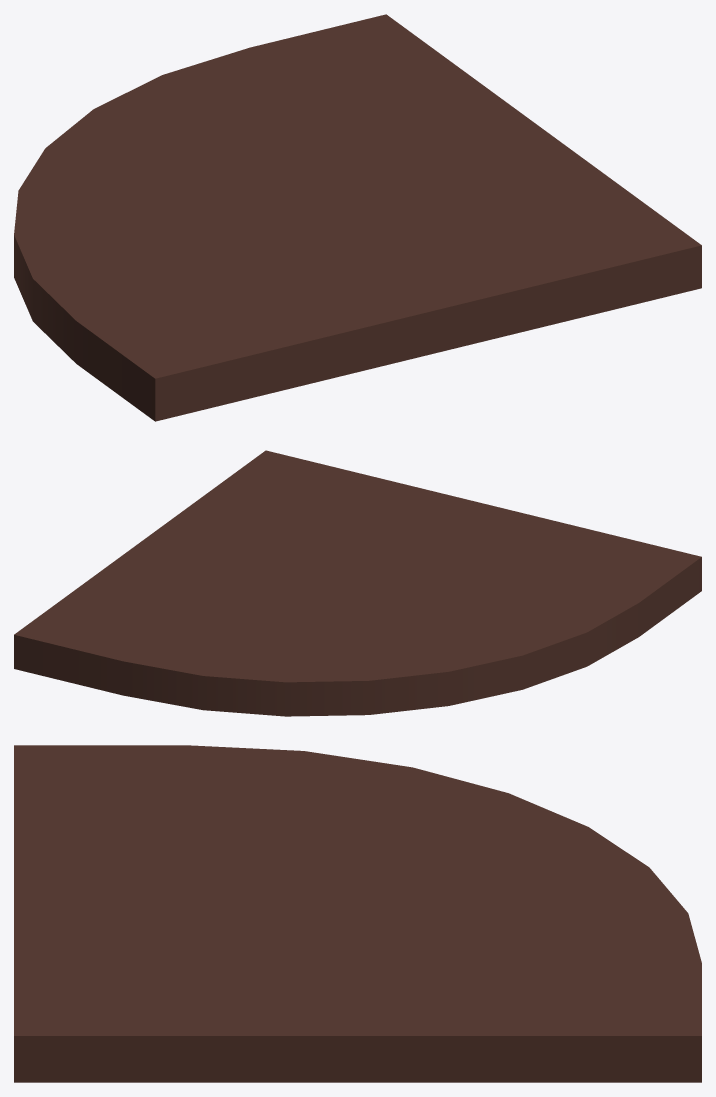
The model's file is mensolaCurvaMarrone.obj.
3 renders of one model, top to bottom at view 1: azimuth 30°, elevation 25°; view 2: azimuth 150°, elevation 25°; view 3: azimuth 270°, elevation 25°, orthographic. The views are drawn at different scales.
Visible parts, largest first — view 1: Rectangle11_1; view 2: Rectangle11_1; view 3: Rectangle11_1.
Boxes of the visible parts, left/top/right/bottom form: Rectangle11_1: left=14, top=14, right=701, bottom=421; Rectangle11_1: left=14, top=450, right=701, bottom=716; Rectangle11_1: left=14, top=745, right=701, bottom=1082.
Size of the model in its own units: 40 by 3 by 40.
